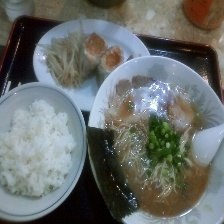rice: (0, 96, 79, 204)
